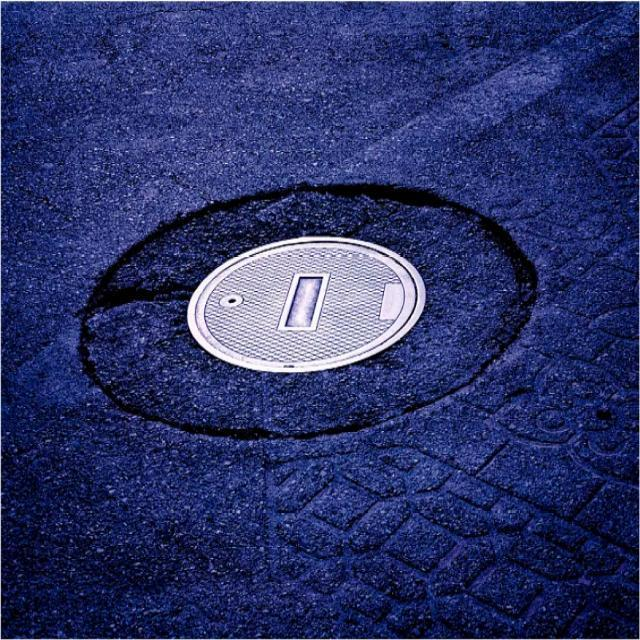manhole: (188, 236, 426, 372)
